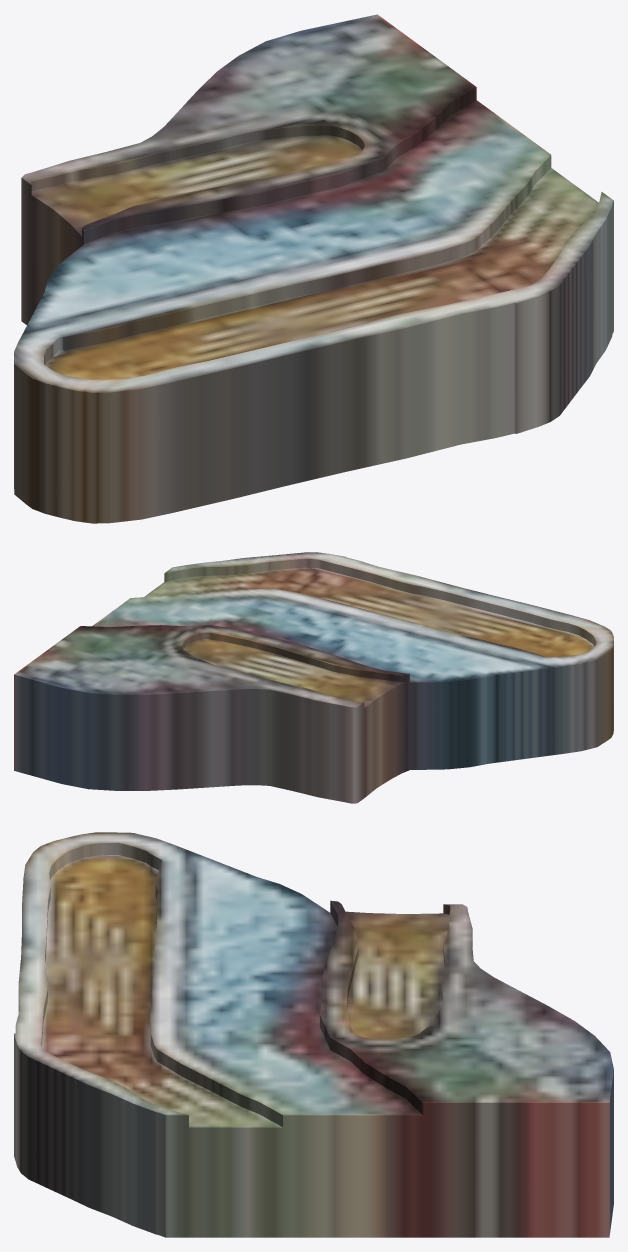
Rendered from por lo nuestro a lo universal 4.dae.
The picture shows the model from 3 angles, top to bottom: view 1: azimuth 30°, elevation 25°; view 2: azimuth 150°, elevation 25°; view 3: azimuth 270°, elevation 25°; orthographic projection. The views are drawn at different scales.
Parts seen in each view (by area): view 1: SketchUp; view 2: SketchUp; view 3: SketchUp.
Boxes of the visible parts, box(x1,y1,x2,y2) form: SketchUp: box(14, 14, 613, 523); SketchUp: box(14, 552, 613, 803); SketchUp: box(14, 832, 613, 1237).
Bounding box in the file's own units: 12.39 × 11.1 × 2.75.
2 materials, 1 textured.
